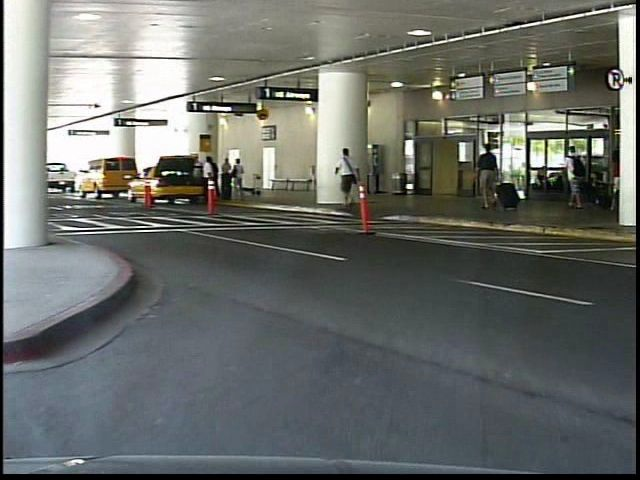person: (558, 138, 595, 218), (478, 141, 508, 216), (340, 145, 370, 211)
